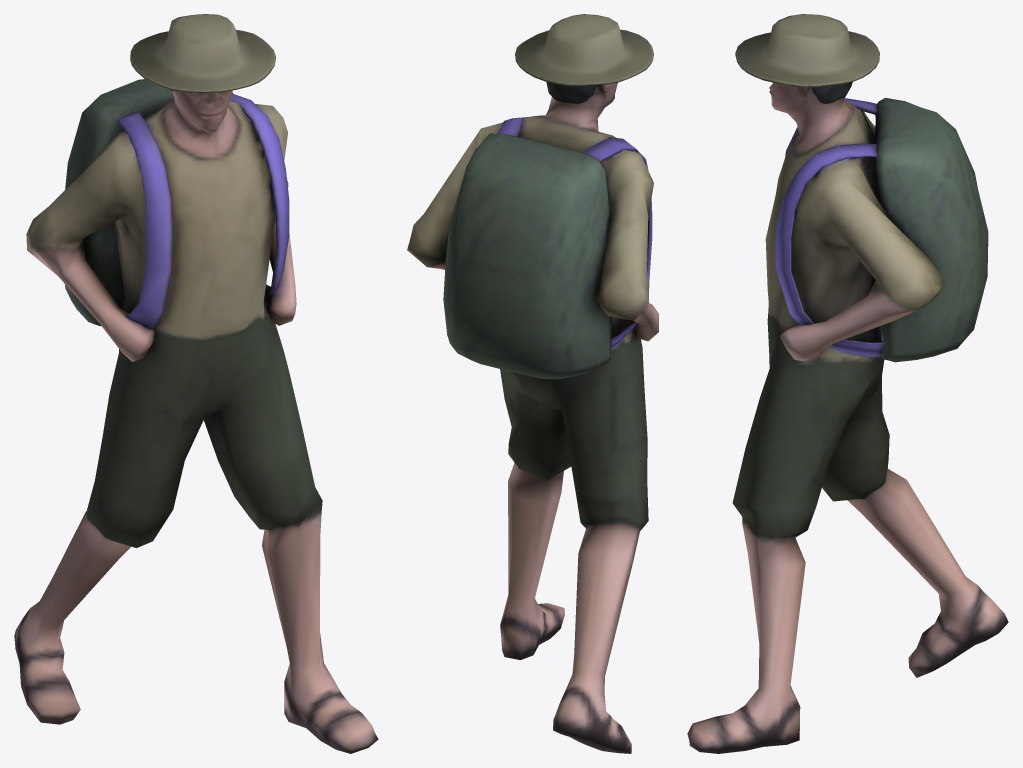
File: Migrants.glb
3 renders of one model, left to right at view 1: azimuth 30°, elevation 25°; view 2: azimuth 150°, elevation 25°; view 3: azimuth 270°, elevation 25°, orthographic. The views are drawn at different scales.
Visible parts, largest first — view 1: migrants; view 2: migrants; view 3: migrants.
Part boxes in pixels (x1=…): migrants: x1=14, y1=14, x2=378, y2=753; migrants: x1=407, y1=14, x2=658, y2=753; migrants: x1=687, y1=14, x2=1008, y2=753.
Bounding box in the file's own units: 0.6095 × 1.66 × 0.7028.
Materials: 1 (1 with a texture image).
